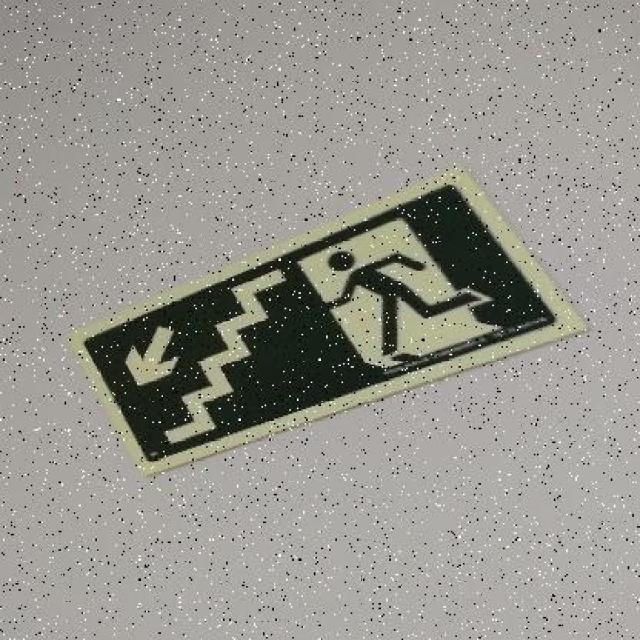emergency_exit: (69, 167, 589, 476)
